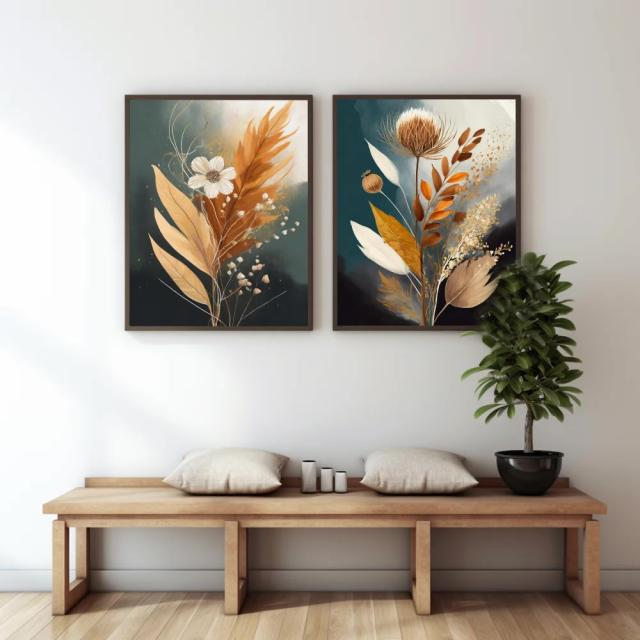painting: (332, 93, 522, 329), (125, 92, 314, 328)
